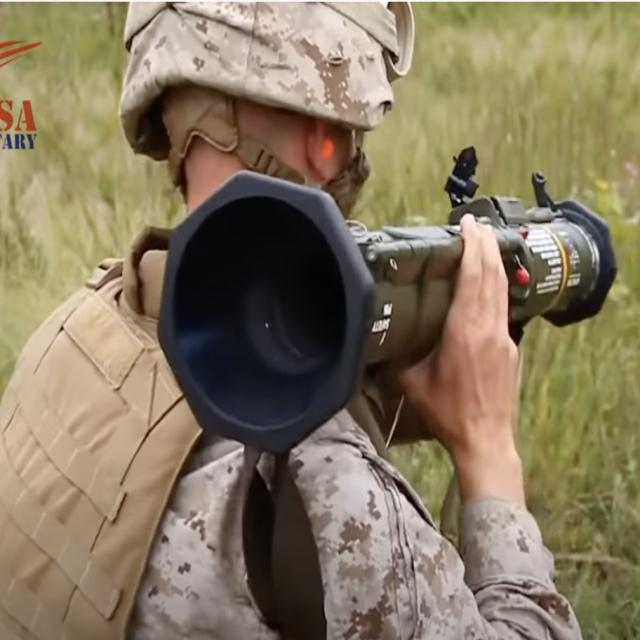bazooka: (136, 148, 636, 488)
